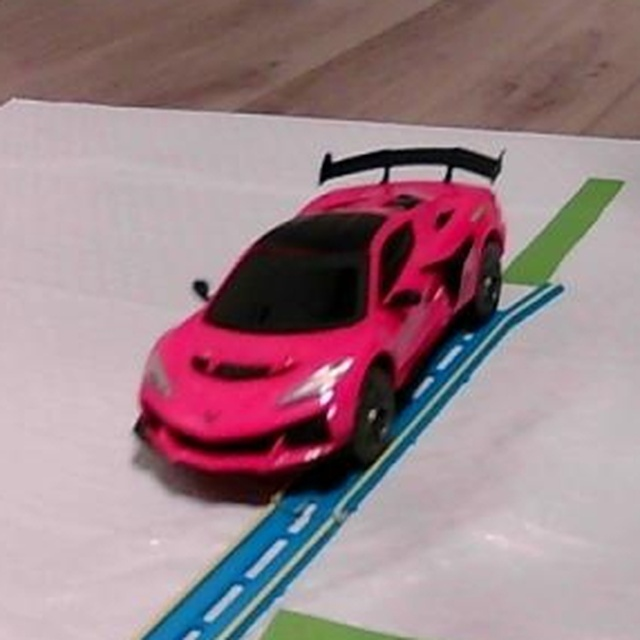tire_front_driver: (352, 362, 398, 455)
tire_rear_driver: (470, 245, 503, 338)
